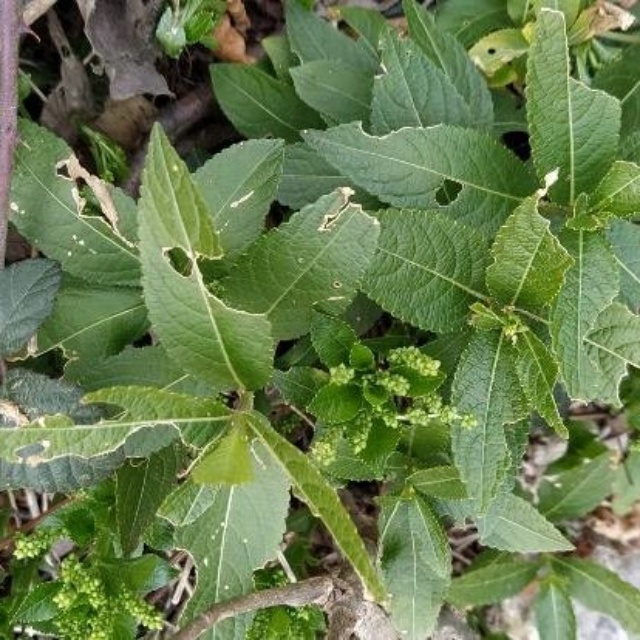obstacle: (59, 124, 575, 597)
